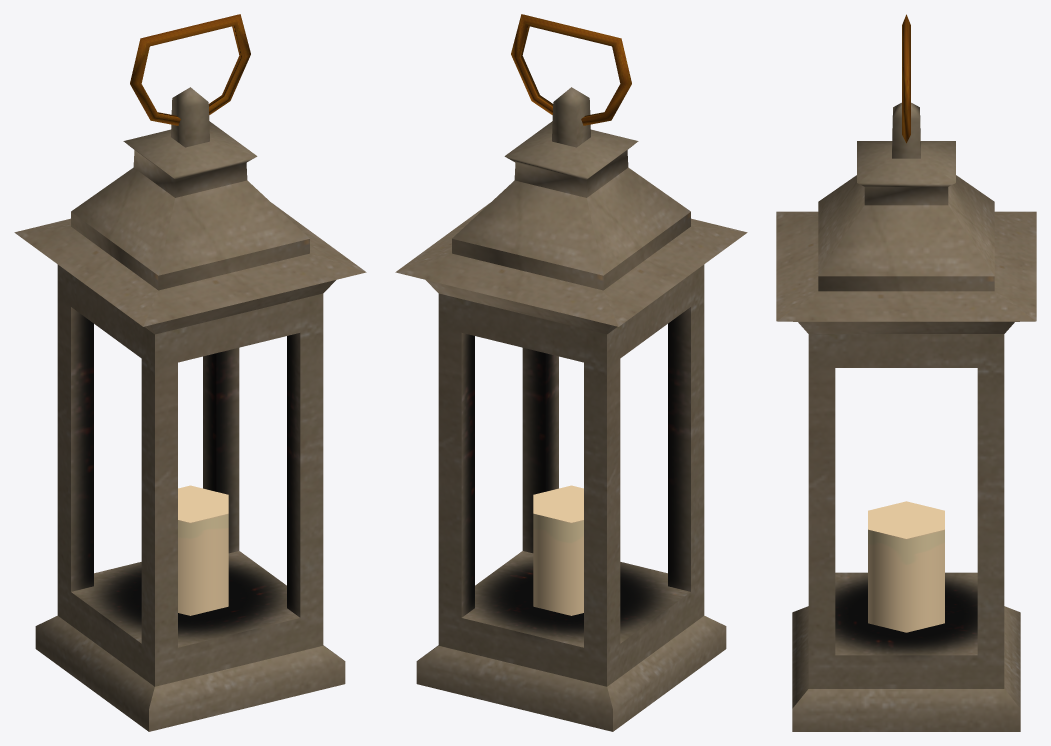
The model's file is cantera.fbx.
3 renders of one model, left to right at view 1: azimuth 30°, elevation 25°; view 2: azimuth 150°, elevation 25°; view 3: azimuth 270°, elevation 25°, orthographic.
Visible parts, largest first — view 1: Cantera_02:pCube7; view 2: Cantera_02:pCube7; view 3: Cantera_02:pCube7.
Part boxes in pixels (box(x1,y1,x2,y2)): Cantera_02:pCube7: box(14, 14, 366, 731); Cantera_02:pCube7: box(395, 14, 747, 731); Cantera_02:pCube7: box(776, 14, 1036, 731).
Size of the model in its own units: 29.86 by 81.73 by 29.86.
